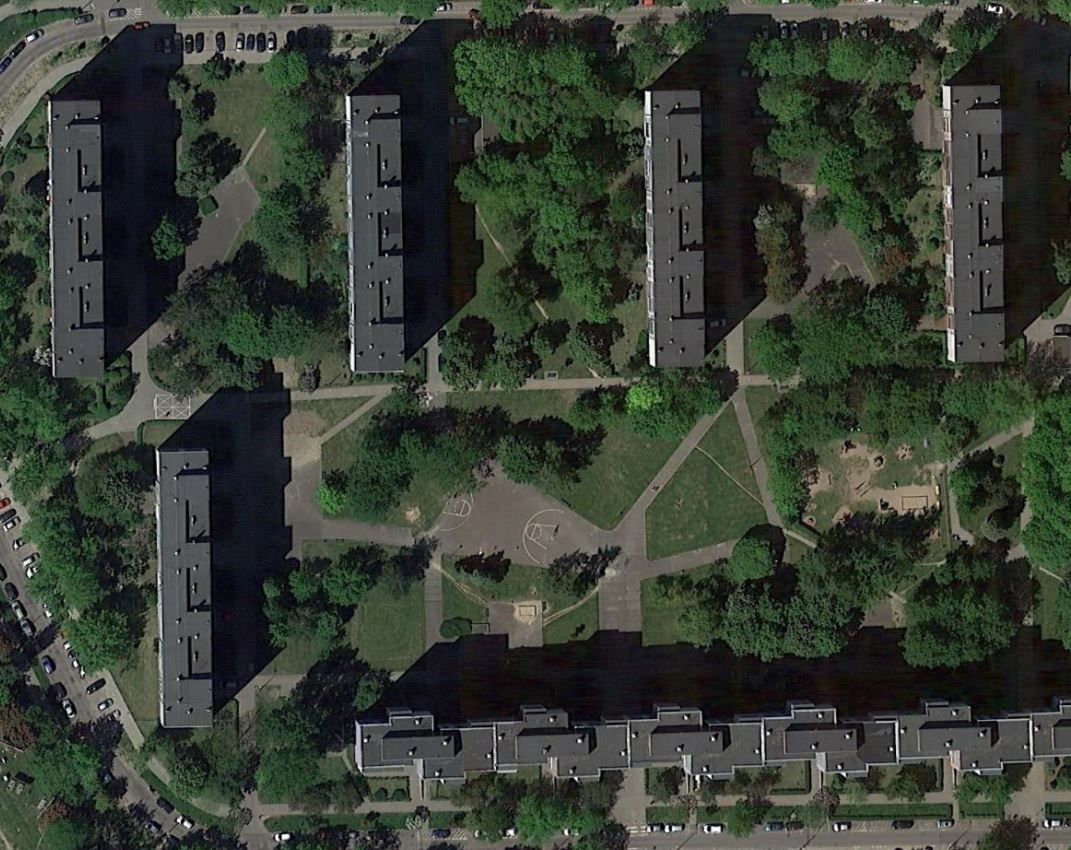block of flats: (344, 688, 1071, 796), (338, 85, 418, 378), (638, 79, 717, 374), (937, 72, 1013, 371), (149, 438, 224, 738), (41, 90, 117, 385)
